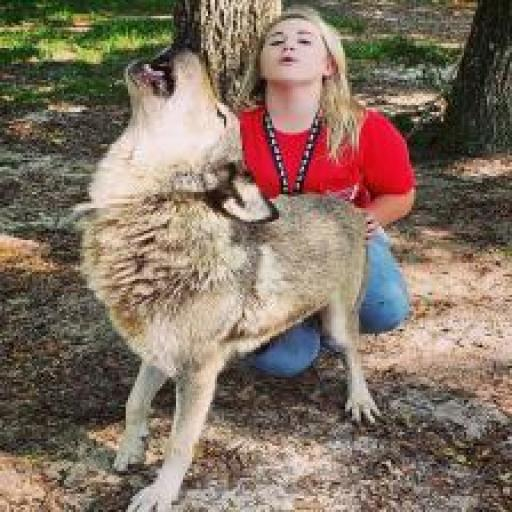wolf: (71, 46, 392, 511)
